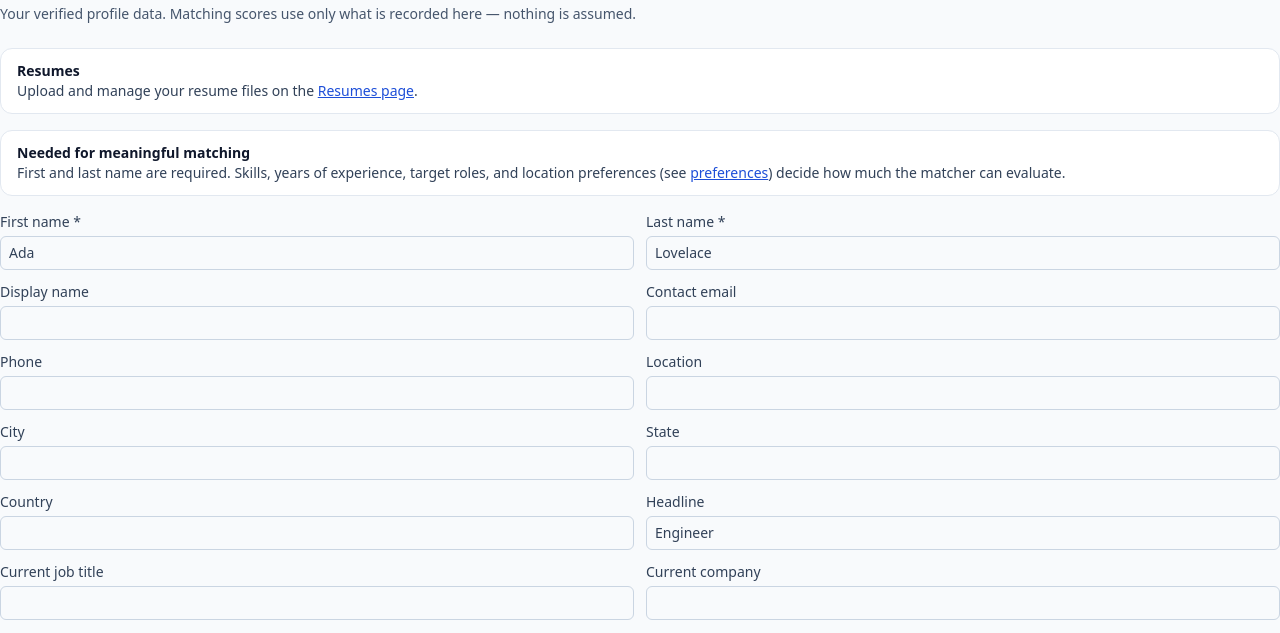
Test case: ProfilePage › loads an existing profile into the form and saves edits
Expected: the field showing "Ada" is shown, [0,236,634,270]
Replace the text in the field labelled "Headline" with "Senior Engineer" at coordinates (963, 533), box [646,516,1279,550]
(page scrolled)
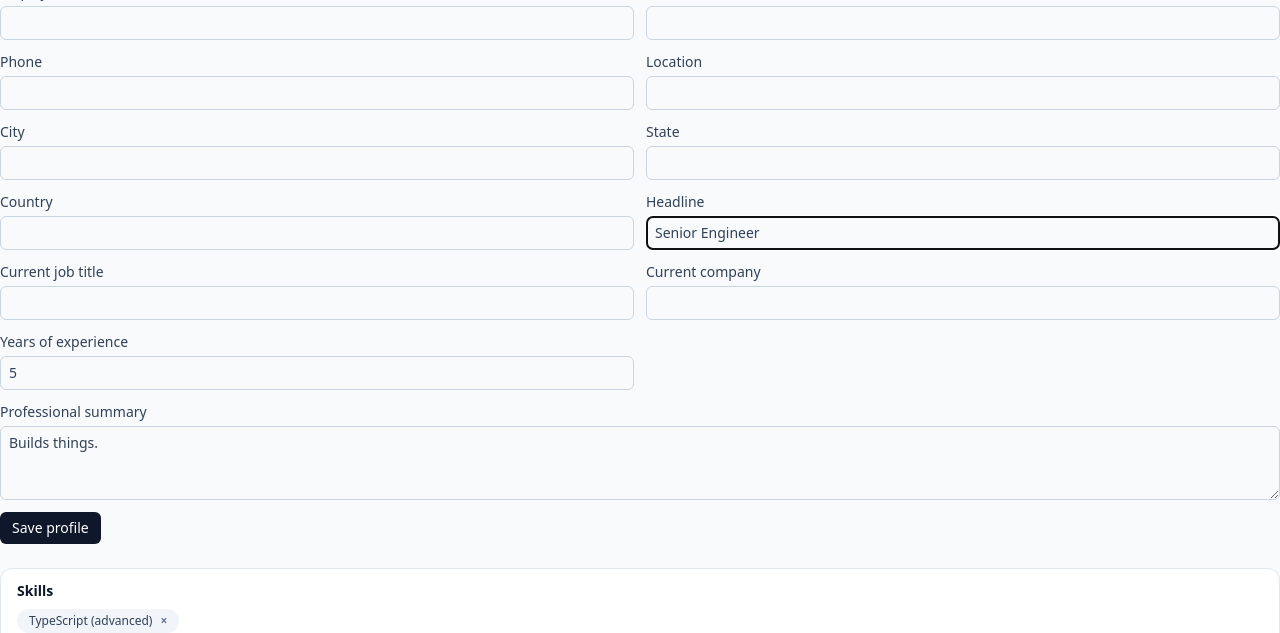
Click the button "Save profile".
click(50, 528)  # box [0,512,101,544]
(page scrolled)
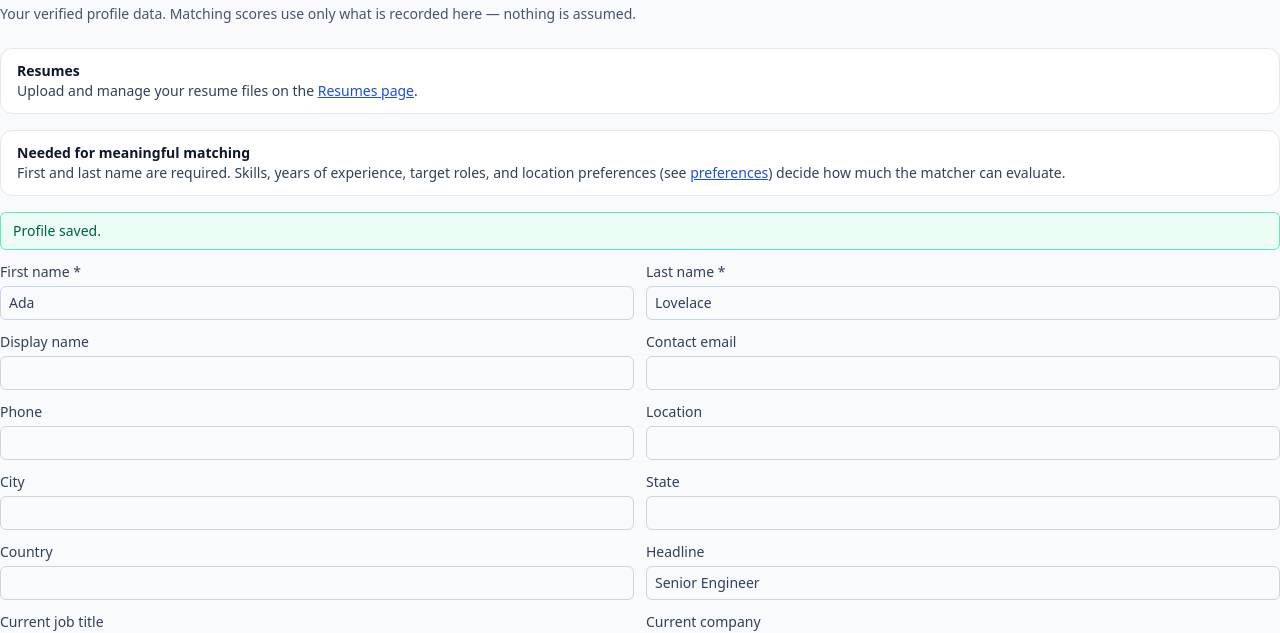
Result: the text "Profile saved." is shown at [0,212,1279,250]
